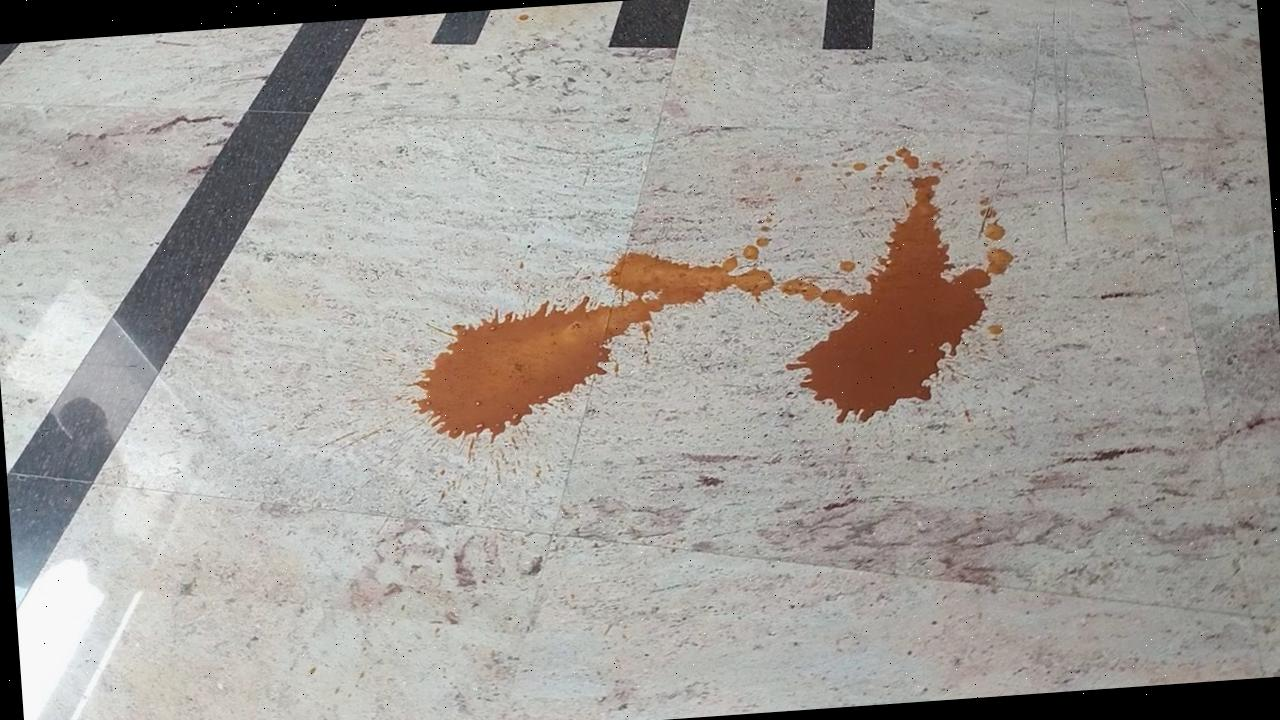dirty_floor: (395, 139, 1022, 460)
